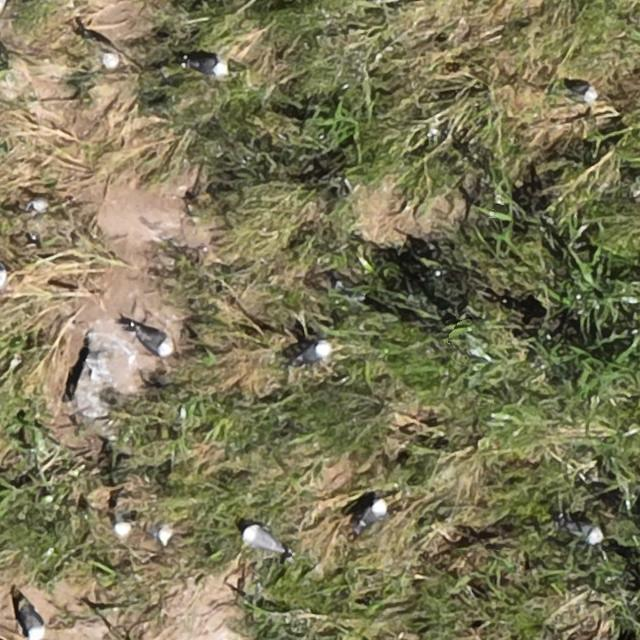umineko: (81, 29, 118, 72), (154, 491, 179, 551), (114, 487, 136, 538), (245, 529, 281, 553), (139, 330, 172, 355), (567, 519, 602, 542), (20, 607, 44, 639), (359, 502, 385, 528), (188, 57, 225, 75), (296, 342, 328, 362), (565, 84, 597, 102)
